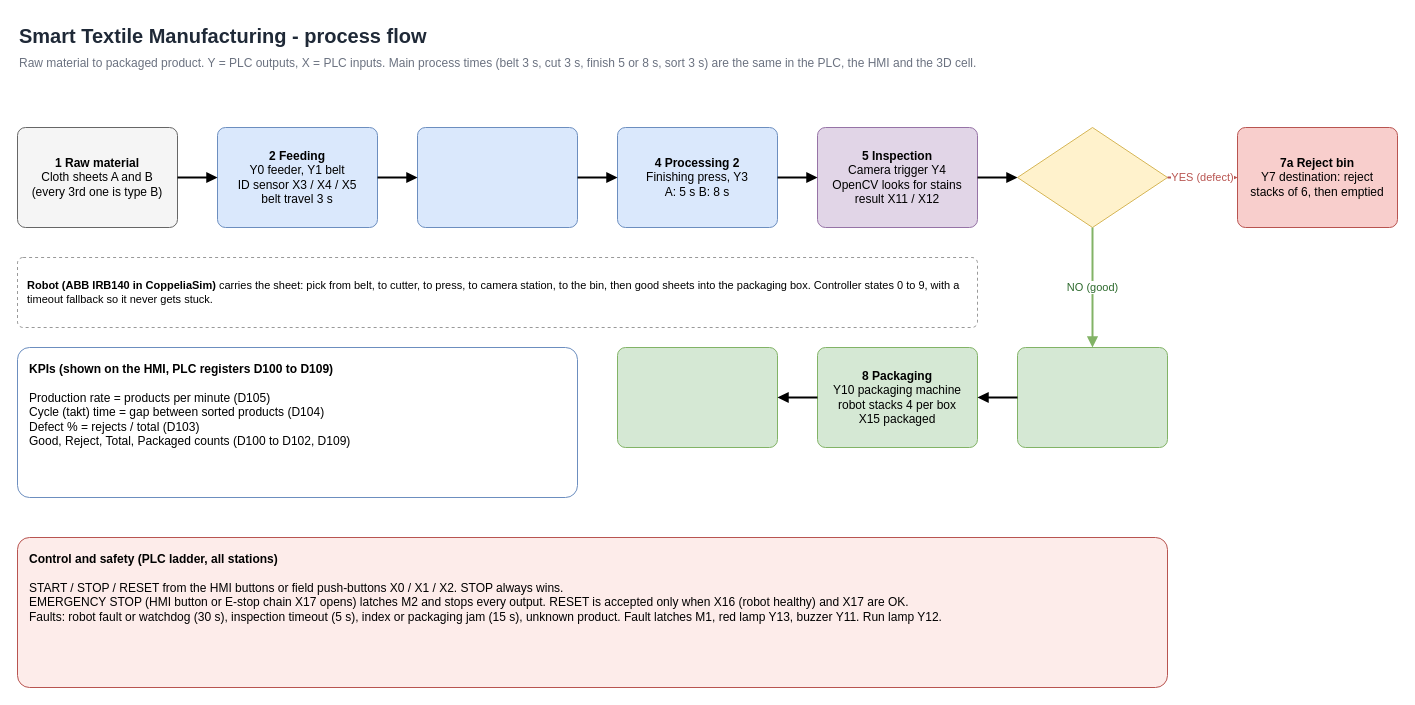
This 1415x705 diagram has some shape labels left out. The centre of each missing label's shape, as x and y in pixels:
"3 Processing 1 Cutting, Y2 3 s" belongs at [497,177].
"7b Good bin Y6 destination: good robot sorts (3 s)" belongs at [1092,397].
"Box shipped counted in PACKAGED and BOXES" belongs at [697,397].
"Defect detected?" belongs at [1092,177].
